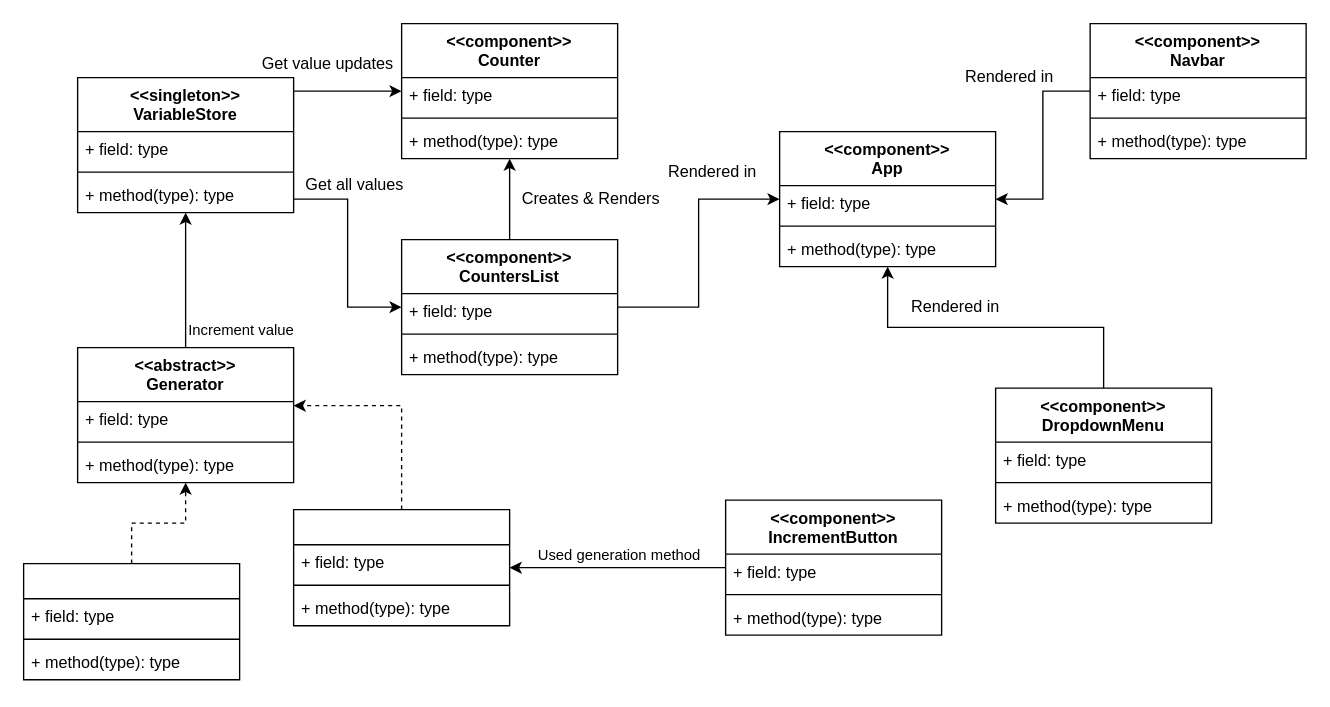
This 1330x707 diagram has some shape labels left out. The box of each missing label's shape, as (x1, y1, x2, y2) in pixels:
ActiveGenerator: (292, 508, 510, 626)
PassiveGenerator: (22, 562, 240, 680)
